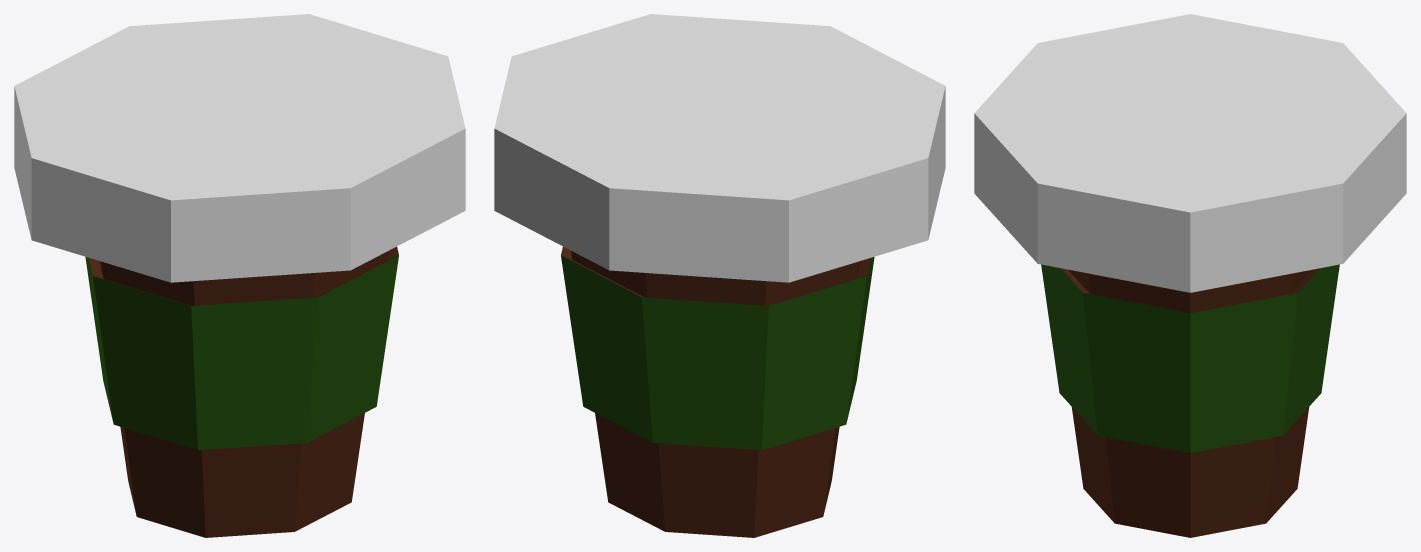
File: cafe.fbx
3 renders of one model, left to right at view 1: azimuth 30°, elevation 25°; view 2: azimuth 150°, elevation 25°; view 3: azimuth 270°, elevation 25°, orthographic. The views are drawn at different scales.
Parts seen in each view (by area): view 1: Cylinder.001; view 2: Cylinder.001; view 3: Cylinder.001.
Boxes of the visible parts, x1,y1,x2,y2 form: Cylinder.001: [14, 14, 465, 537]; Cylinder.001: [494, 14, 945, 537]; Cylinder.001: [974, 14, 1406, 537].
Size of the model in its own units: 25.97 by 22.9 by 23.88.
